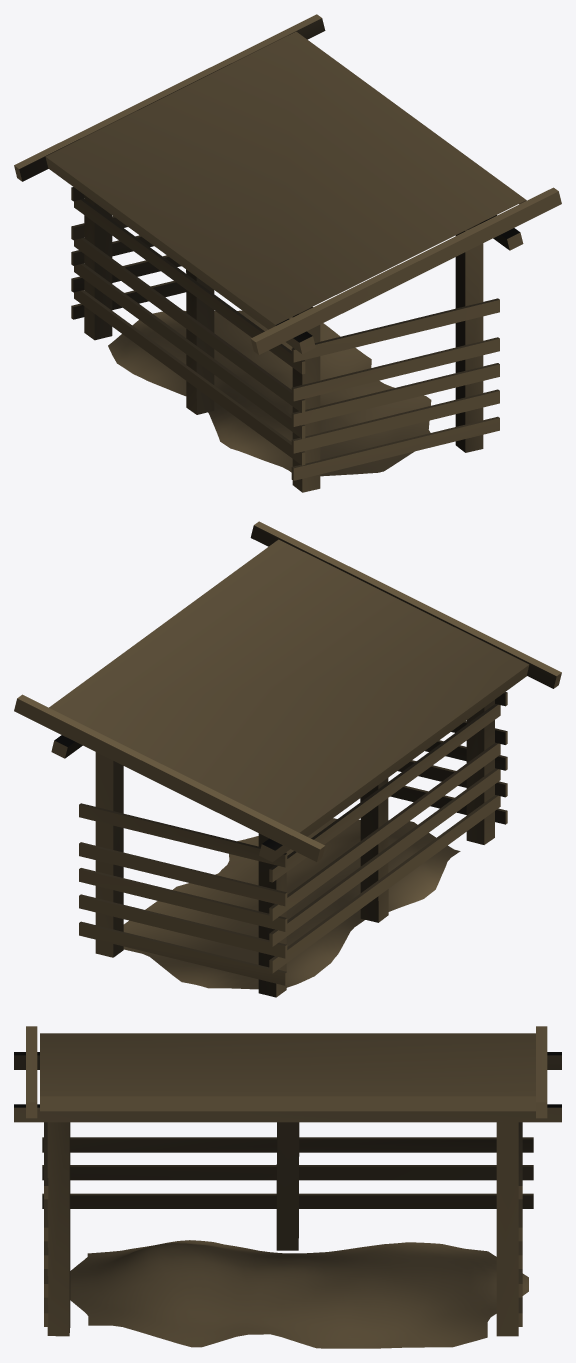
File: Barn.fbx
3 renders of one model, top to bottom at view 1: azimuth 30°, elevation 25°; view 2: azimuth 150°, elevation 25°; view 3: azimuth 270°, elevation 25°, orthographic. The views are drawn at different scales.
Visible parts, largest first — view 1: Barn; view 2: Barn; view 3: Barn.
Boxes of the visible parts, x1=… form: Barn: x1=14, y1=14, x2=561, y2=492; Barn: x1=14, y1=521, x2=561, y2=997; Barn: x1=14, y1=1026, x2=561, y2=1348.
Bounding box in the file's own units: 0.2645 × 0.2101 × 0.3808.
